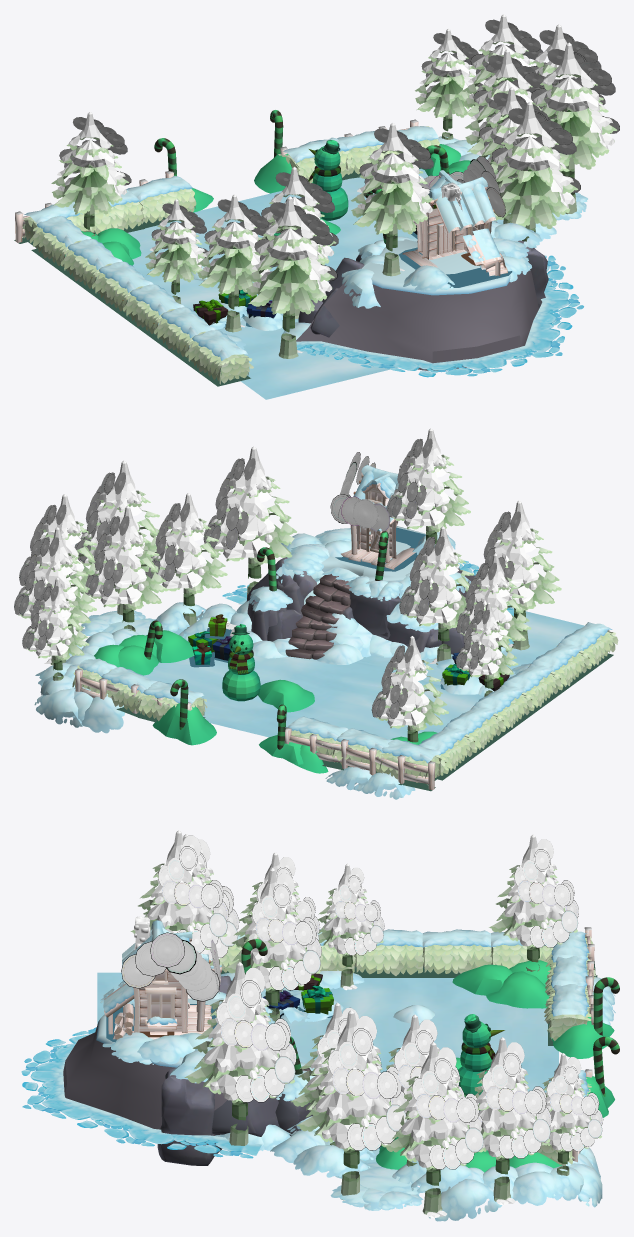
The model's file is EventArea_Winter.fbx.
The picture shows the model from 3 angles, top to bottom: view 1: azimuth 30°, elevation 25°; view 2: azimuth 150°, elevation 25°; view 3: azimuth 270°, elevation 25°; orthographic projection. The views are drawn at different scales.
Parts seen in each view (by area): view 1: PineTreeCrownSnow (×13), Hutbase, SnowInShadow, SnowyHedge (×10), HedgeSnow (×9), Icering, LumberjackHut, Snowpile (×5), snow, Snowman, HutShadow, ForestRock01 (+1 smaller); view 2: PineTreeCrownSnow (×13), SnowInShadow, Snowpile (×14), HedgeSnow (×11), SnowyHedge (×9), LumberjackHut, Snowman, ForestRock01 (×2), Stonewall_Stairs_01 (1), Stonewall_Stairs_01, Hutbase, FarmFence01 (×2) (+4 smaller); view 3: PineTreeCrownSnow (×13), SnowInShadow, LumberjackHut, Snowpile (×8), Hutbase, Icering, SnowyHedge (×5), HedgeSnow (×5), ForestRock01, Snowman, ForestRock06, Candycane (×2) (+2 smaller).
Part boxes in pixels (x1,y1,x2,y2): PineTreeCrownSnow (×13): (51,14,619,358); Hutbase: (296,239,538,370); SnowInShadow: (128,140,587,399); SnowyHedge (×10): (29,145,400,384); HedgeSnow (×9): (24,137,350,360); Icering: (296,255,583,377); LumberjackHut: (402,156,507,276); Snowpile (×5): (97,152,541,308); snow: (428,170,501,262); Snowman: (308,139,348,220); HutShadow: (398,247,512,287); ForestRock01: (518,240,548,308); PineTreeCrownSnow (×13): (14,428,561,742); SnowInShadow: (35,600,584,739); Snowpile (×14): (34,552,438,799); HedgeSnow (×11): (101,622,612,763); SnowyHedge (×9): (96,624,618,785); LumberjackHut: (330,452,415,569); Snowman: (222,624,260,701); ForestRock01 (×2): (349,591,420,644); Stonewall_Stairs_01 (1): (301,574,351,624); Stonewall_Stairs_01: (285,615,337,659); Hutbase: (317,526,504,647); FarmFence01 (×2): (346,747,435,790); PineTreeCrownSnow (×13): (130,830,603,1218); SnowInShadow: (97,969,565,1221); LumberjackHut: (104,916,222,1039); Snowpile (×8): (102,964,614,1207); Hutbase: (63,998,226,1135); Icering: (21,1027,261,1158); SnowyHedge (×5): (319,944,593,1040); HedgeSnow (×5): (376,929,589,1016); ForestRock01: (157,1068,221,1165); Snowman: (458,1014,504,1095); ForestRock06: (212,1096,279,1136); Candycane (×2): (593,977,619,1096).
Size of what is drawn, in the model's own units: 21.57 by 10.49 by 19.8.
